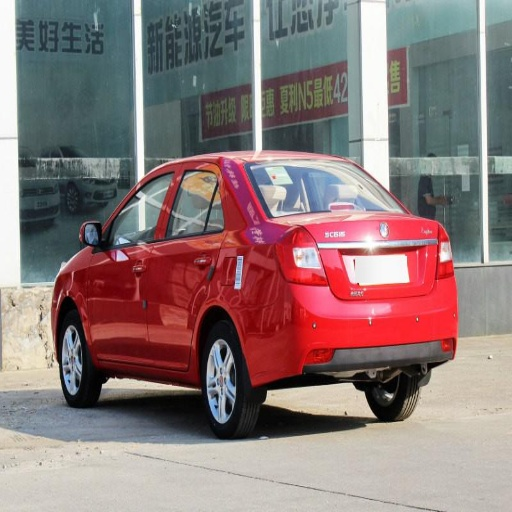back_bumper: (247, 275, 458, 381)
back_glass: (256, 162, 400, 213)
back_left_door: (150, 161, 224, 367)
tailgate: (291, 206, 434, 308)
